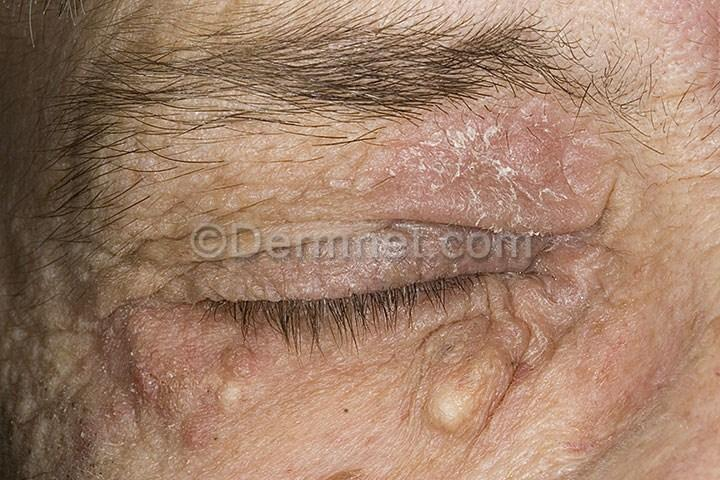Eczema: (73, 336, 281, 453), (25, 260, 100, 454), (424, 344, 513, 435)
